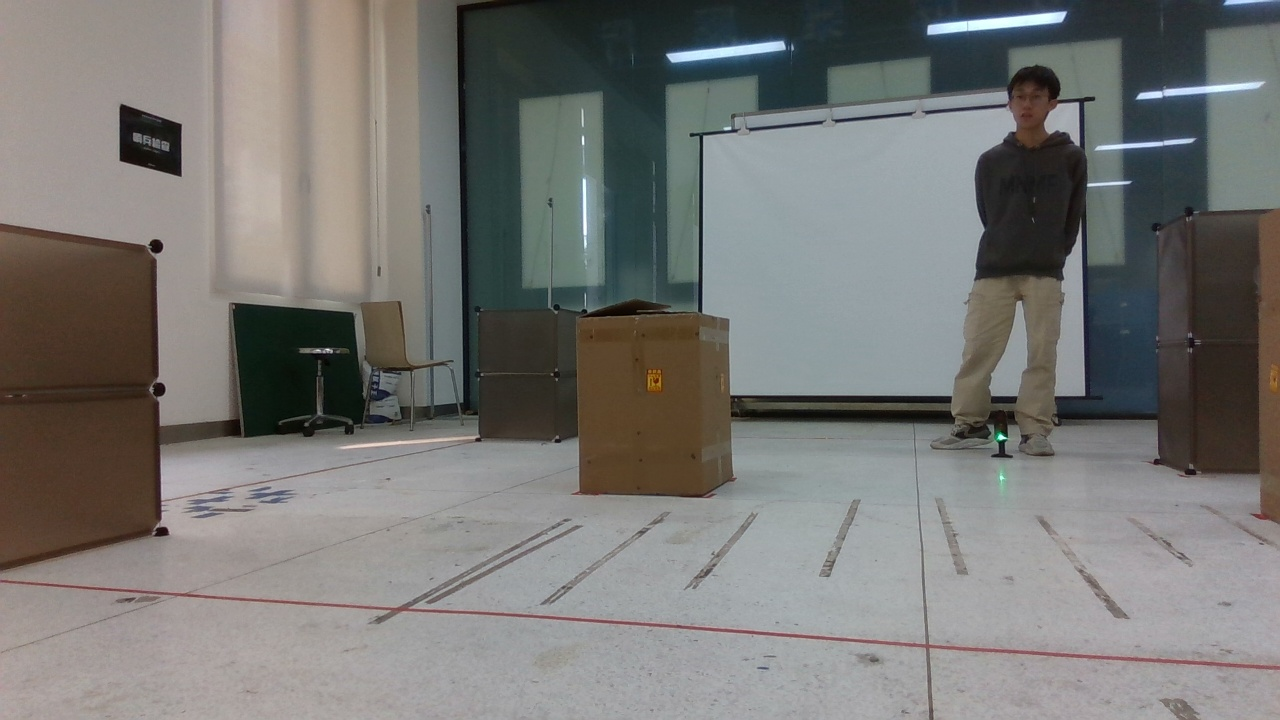green_light: (989, 405, 1021, 463)
